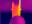Hotspot: (13, 0, 21, 16)
